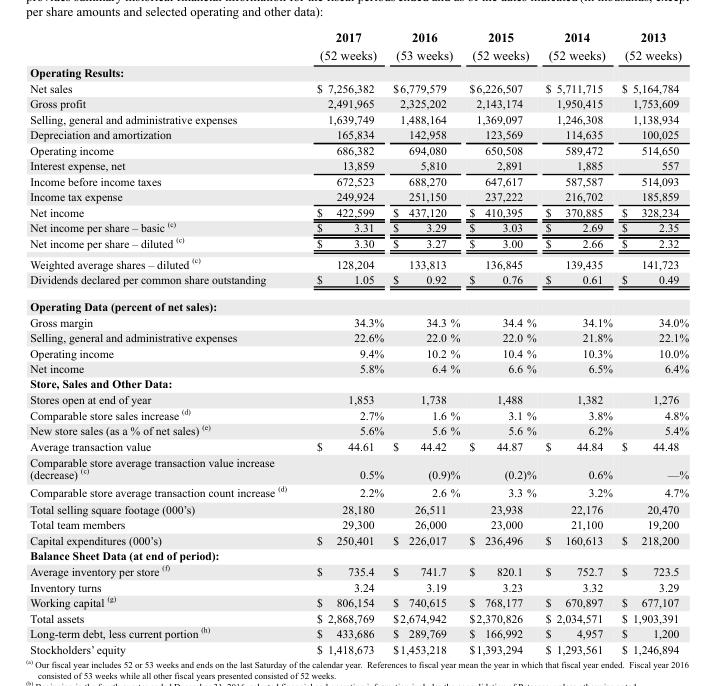table: (29, 29, 688, 655)
table column: (29, 29, 300, 655), (300, 29, 387, 655), (463, 29, 540, 655), (387, 29, 463, 655), (540, 29, 616, 655), (616, 29, 688, 655)
table column header: (29, 29, 688, 63)
table projected row header: (29, 292, 688, 313), (29, 63, 688, 80), (29, 375, 688, 391), (29, 547, 688, 562)
table row: (29, 29, 688, 63), (29, 454, 688, 482), (29, 271, 688, 292), (29, 292, 688, 313), (29, 252, 688, 271), (29, 234, 688, 252), (29, 482, 688, 500), (29, 63, 688, 80), (29, 437, 688, 454), (29, 95, 688, 111), (29, 126, 688, 142), (29, 157, 688, 173), (29, 188, 688, 204), (29, 218, 688, 234), (29, 313, 688, 329), (29, 344, 688, 360), (29, 375, 688, 391), (29, 421, 688, 437), (29, 500, 688, 516), (29, 516, 688, 532), (29, 562, 688, 578), (29, 593, 688, 609), (29, 624, 688, 640), (29, 80, 688, 95), (29, 111, 688, 126), (29, 142, 688, 157), (29, 173, 688, 188), (29, 329, 688, 344), (29, 360, 688, 375), (29, 391, 688, 406), (29, 406, 688, 421), (29, 532, 688, 547), (29, 547, 688, 562), (29, 578, 688, 593), (29, 609, 688, 624), (29, 640, 688, 655), (29, 204, 688, 218)
